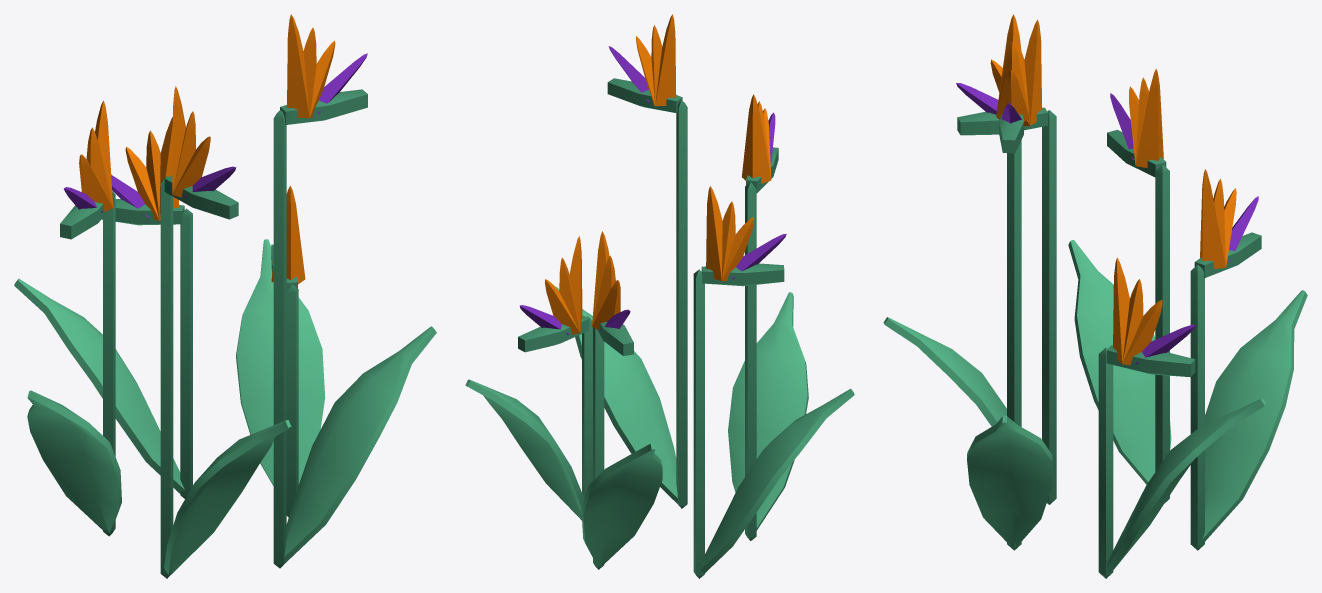
File: W3_TropicalFlower.fbx
3 renders of one model, left to right at view 1: azimuth 30°, elevation 25°; view 2: azimuth 150°, elevation 25°; view 3: azimuth 270°, elevation 25°, orthographic. The views are drawn at different scales.
Parts seen in each view (by area): view 1: W3_TropicalFlower; view 2: W3_TropicalFlower; view 3: W3_TropicalFlower.
Part boxes in pixels (<box>): W3_TropicalFlower: <box>14,14,436,578</box>; W3_TropicalFlower: <box>465,14,854,578</box>; W3_TropicalFlower: <box>883,14,1307,578</box>.
Bounding box in the file's own units: 1.76 × 2.48 × 1.76.
